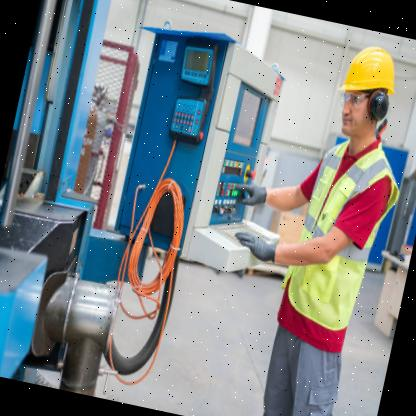capacete: (334, 37, 404, 108)
oculos: (337, 85, 373, 113)
